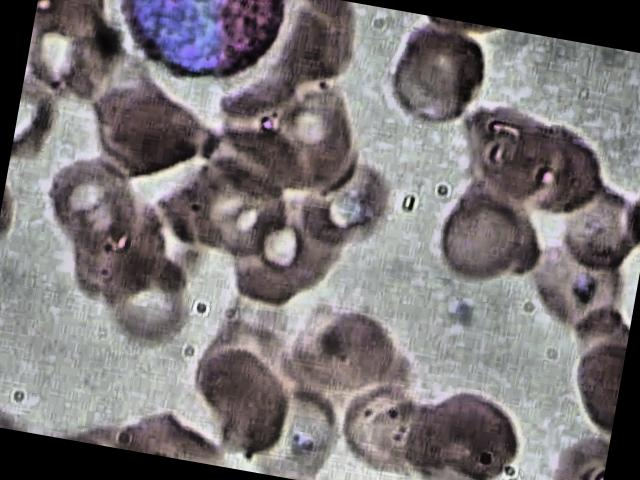Platelets: (441, 292, 486, 333), (280, 422, 325, 463)
RBC: (75, 52, 231, 190), (284, 278, 430, 412), (206, 185, 352, 319), (242, 66, 374, 200), (175, 331, 304, 468), (83, 232, 212, 366), (516, 207, 640, 341), (374, 12, 502, 140), (496, 102, 624, 230), (411, 172, 538, 300), (439, 82, 566, 210), (27, 146, 153, 262), (319, 367, 443, 480), (406, 378, 530, 480), (544, 153, 640, 282), (289, 148, 402, 256)
WBC: (103, 0, 295, 92)
